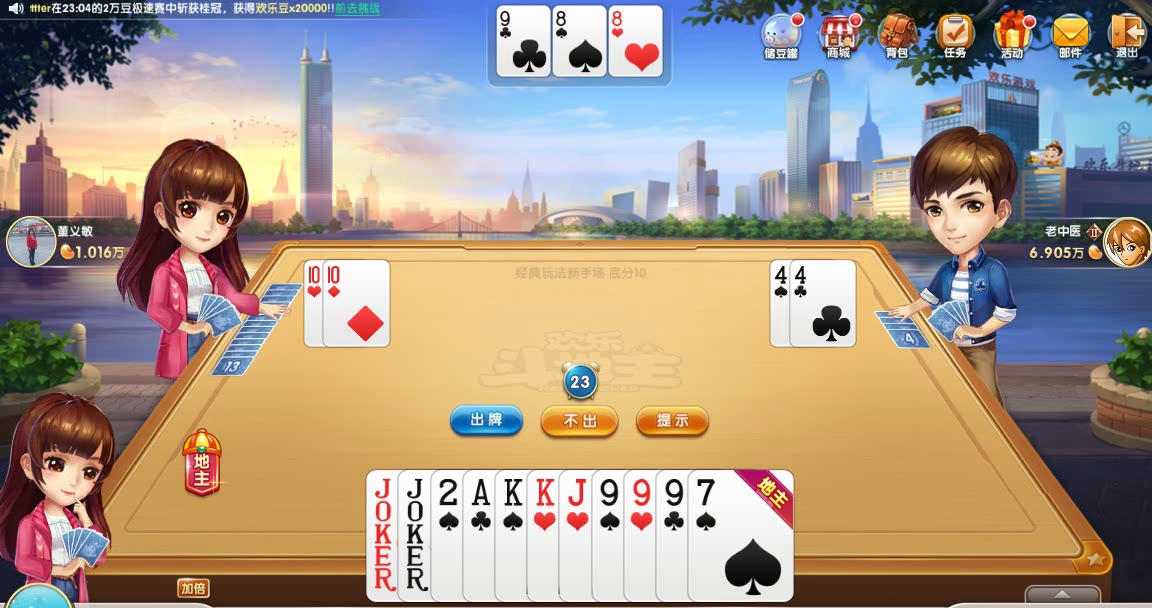10~1: (323, 261, 390, 348)
10~3: (304, 260, 371, 347)
11~3: (558, 469, 666, 601)
13~3: (526, 469, 634, 601)
13~4: (494, 469, 602, 601)
14~2: (462, 469, 570, 601)
15~4: (430, 470, 538, 602)
17~3: (396, 469, 504, 601)
18~4: (365, 469, 473, 601)
4~2: (790, 260, 856, 347)
4~4: (770, 260, 836, 347)
7~4: (688, 470, 796, 602)
8~3: (606, 5, 662, 76)
8~4: (551, 5, 607, 76)
9~2: (655, 469, 763, 601), (495, 5, 551, 76)
9~3: (623, 468, 731, 600)
9~4: (592, 469, 700, 601)
